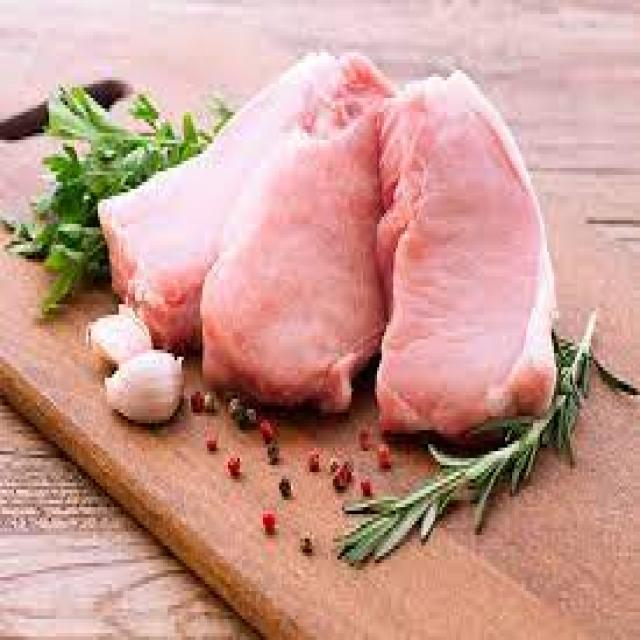pork: (100, 56, 556, 432), (377, 70, 559, 435), (202, 105, 386, 413)
